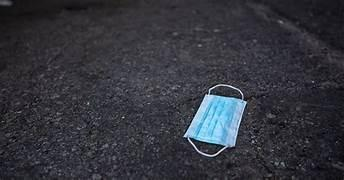Mask: (184, 84, 245, 156)
